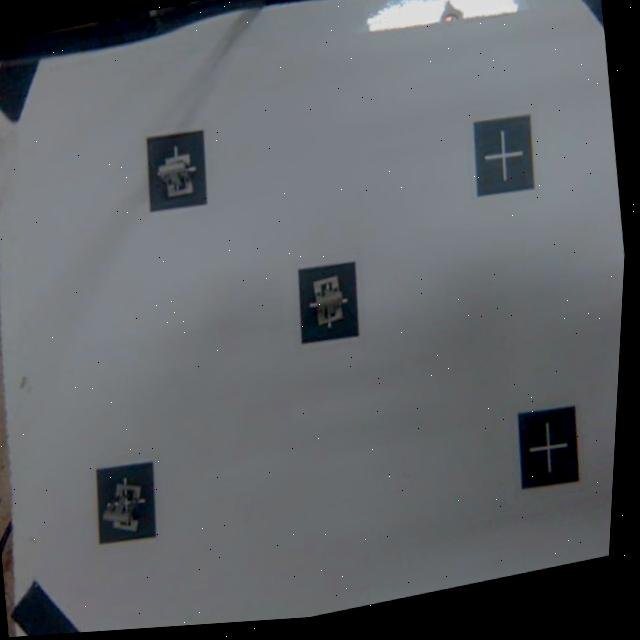pick2: (135, 124, 219, 220)
pick3: (291, 261, 366, 349)
pick5: (83, 454, 163, 551)
